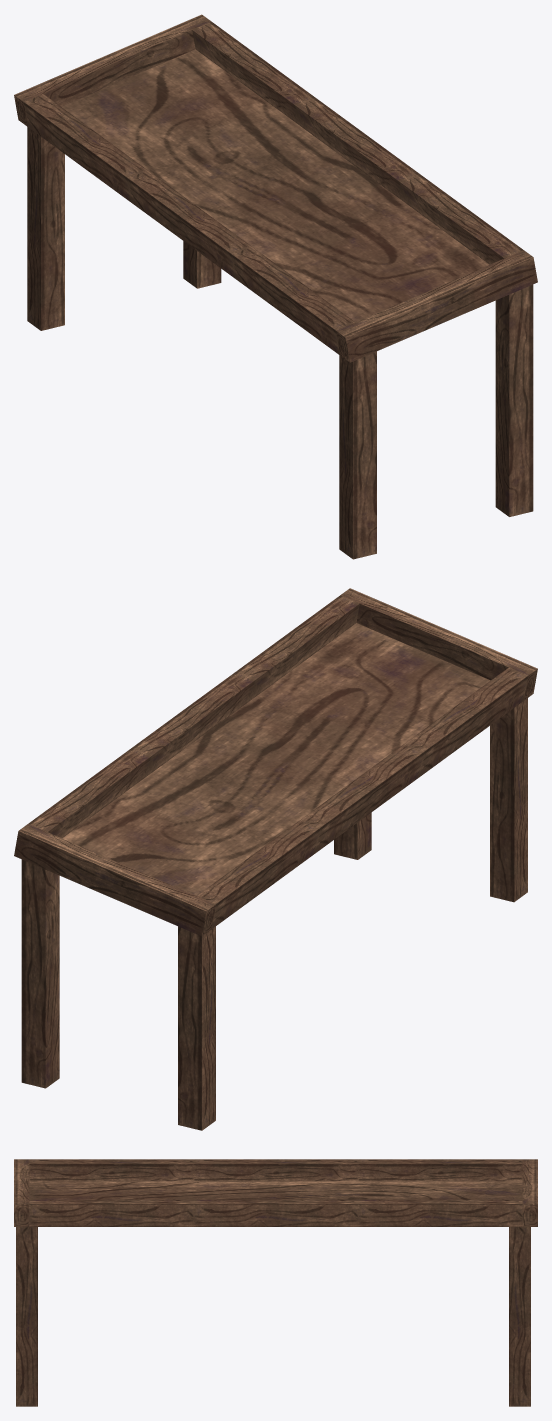
Rendered from wood table001.fbx.
The picture shows the model from 3 angles, top to bottom: view 1: azimuth 30°, elevation 25°; view 2: azimuth 150°, elevation 25°; view 3: azimuth 270°, elevation 25°; orthographic projection. The views are drawn at different scales.
Parts seen in each view (by area): view 1: table001; view 2: table001; view 3: table001.
Boxes of the visible parts, bbox=[...] form: table001: bbox=[14, 14, 537, 559]; table001: bbox=[14, 588, 537, 1130]; table001: bbox=[14, 1159, 537, 1406].
Bounding box in the file's own units: 32.04 × 41.3 × 95.67.
